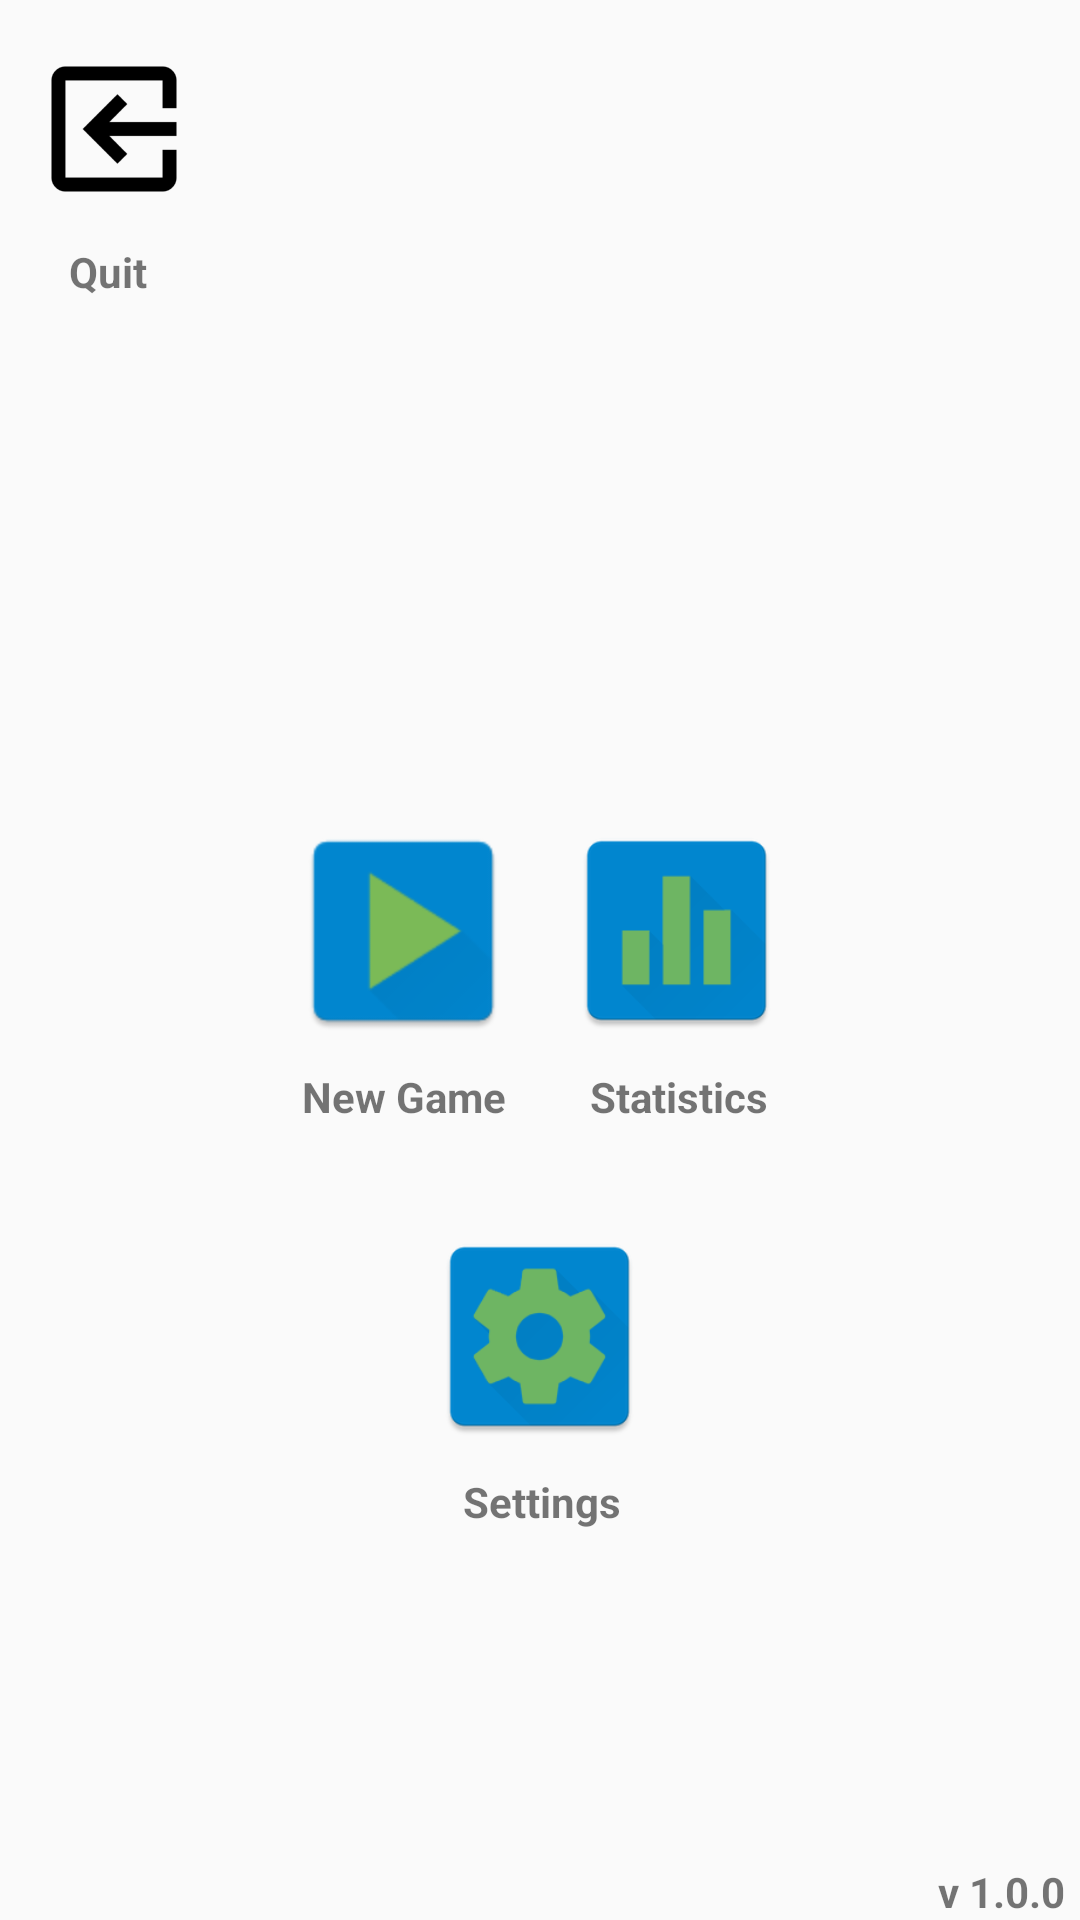

Icons on this 1080 x 1920 Android screen, each with its box as detection(x1, y1, x2, y2):
exit: detection(51, 66, 177, 192)
